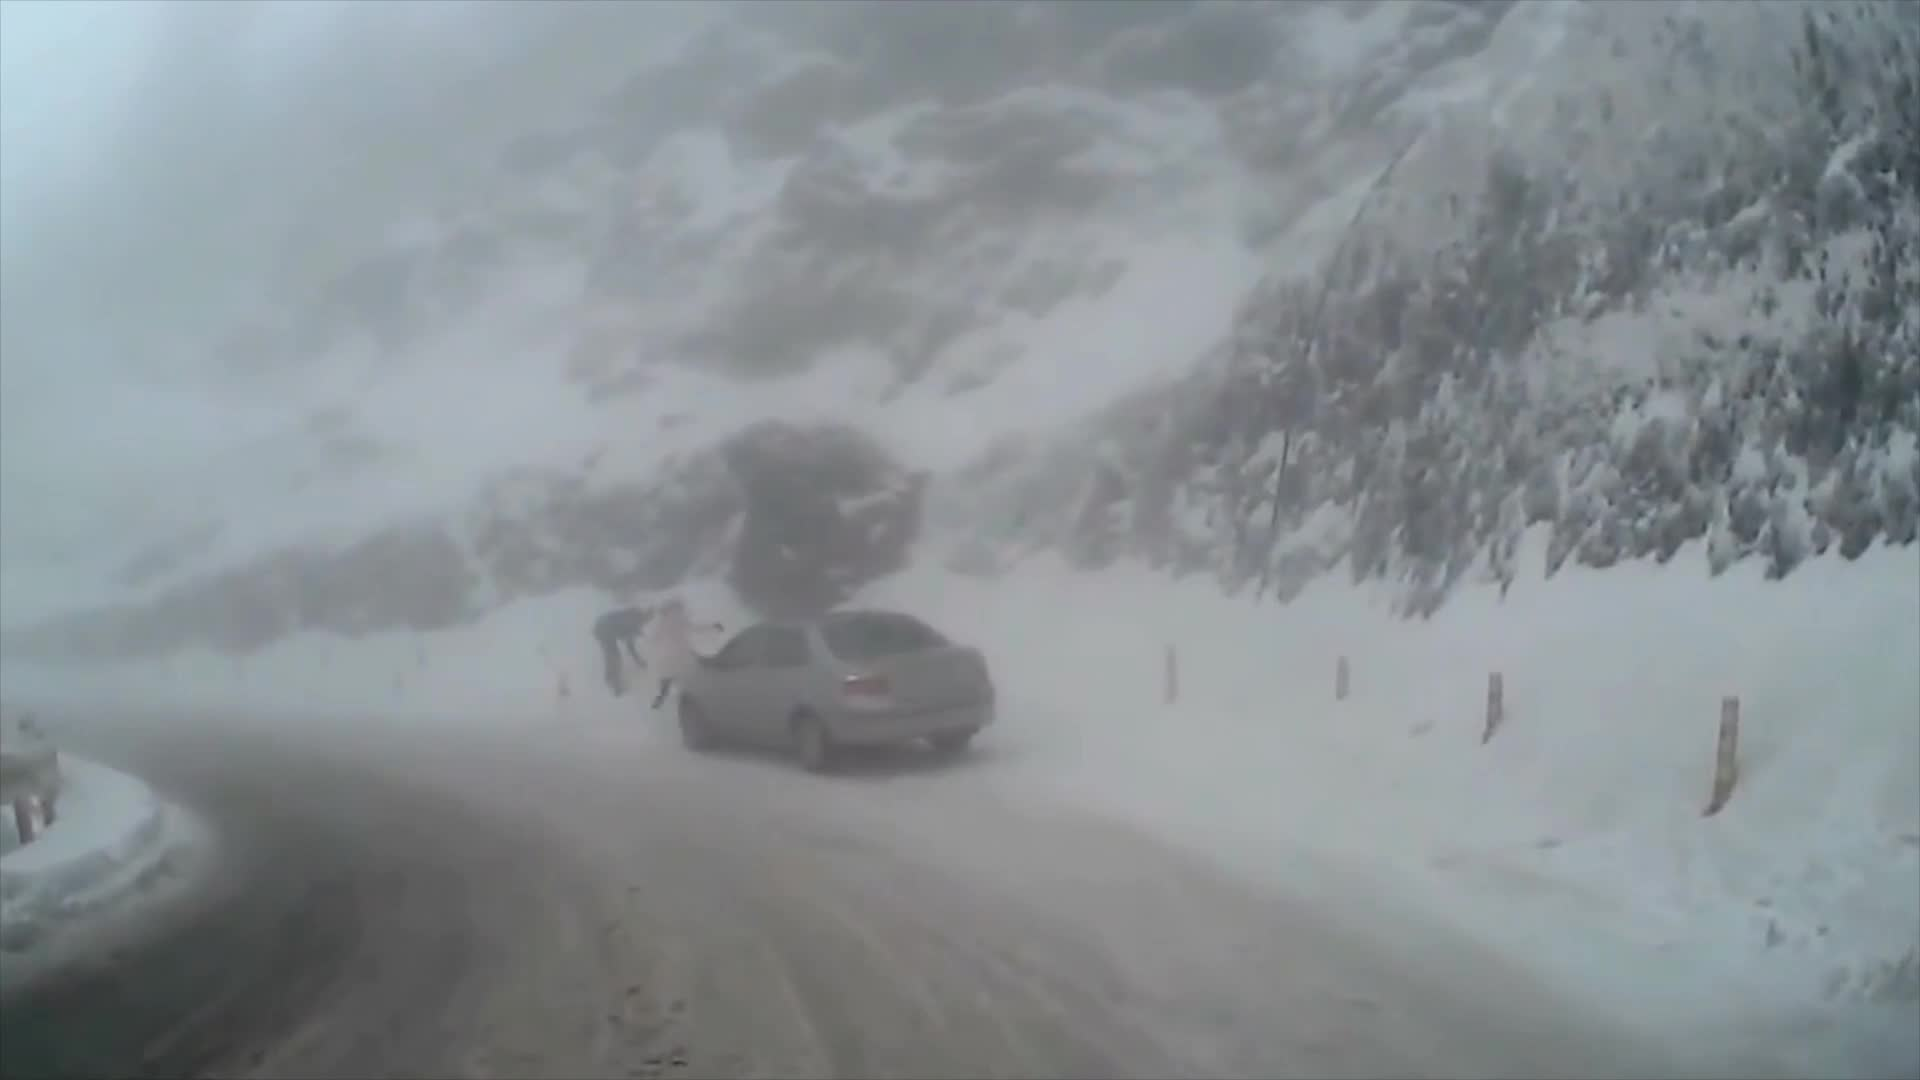pedestrian: (645, 599, 722, 729), (595, 609, 663, 703)
vehicle: (678, 612, 998, 767)
